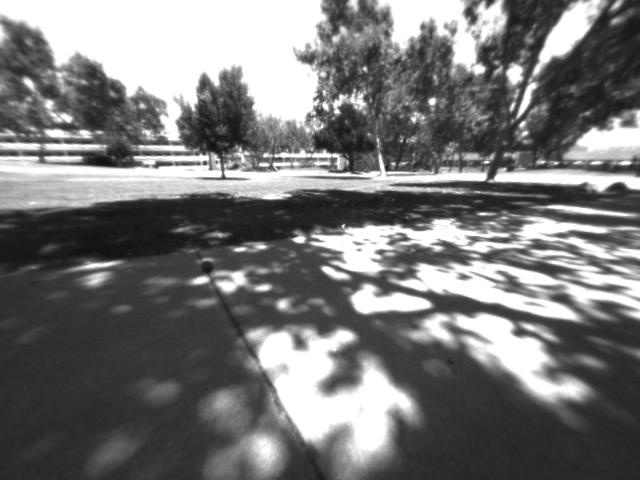dogtoy: (197, 253, 222, 282)
